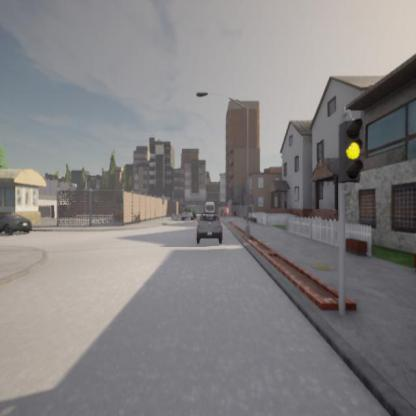traffic_light_orange: (340, 121, 365, 180)
vehicle: (196, 214, 223, 244), (0, 212, 32, 236)
